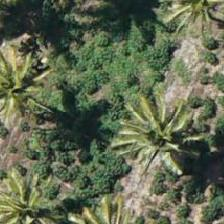coconut_tree: (109, 94, 199, 184), (0, 40, 61, 130), (0, 169, 67, 223)
